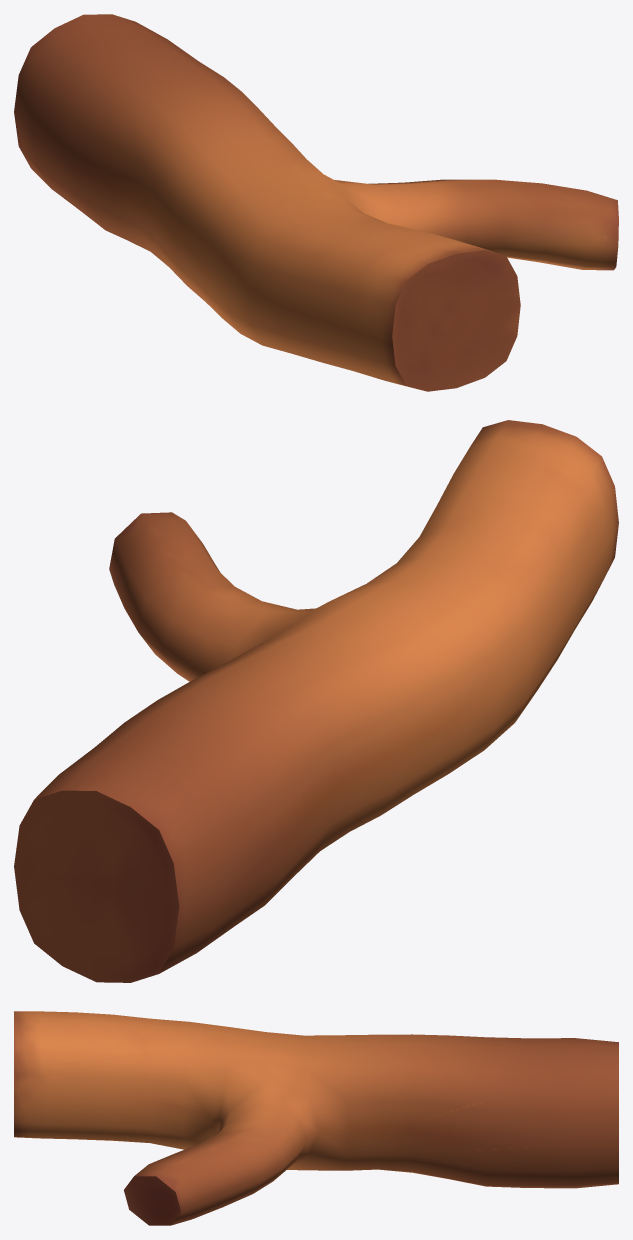
The model's file is branch.gltf.
3 views of the same model, one above another, from view 1: azimuth 30°, elevation 25°; view 2: azimuth 150°, elevation 25°; view 3: azimuth 270°, elevation 25° (orthographic). The views are drawn at different scales.
Visible parts, largest first — view 1: branch; view 2: branch; view 3: branch.
Boxes of the visible parts, box(x1,y1,x2,y2) form: branch: box(14, 14, 618, 391); branch: box(14, 420, 618, 982); branch: box(14, 1011, 618, 1225).
Size of the model in its own units: 0.388 by 0.2038 by 0.6978.
1 material, 1 textured.
